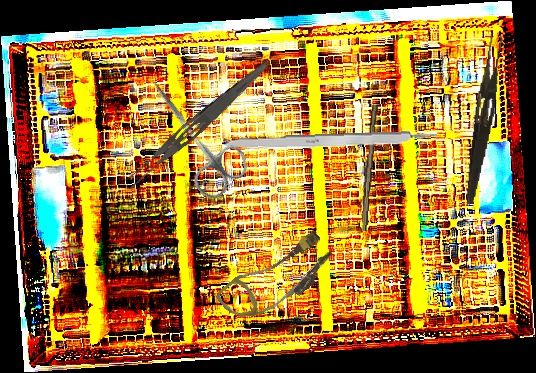Cannula: (214, 219, 340, 338)
Dressing Forceps: (120, 55, 272, 193), (463, 34, 504, 206)
Iris Scissors: (127, 63, 256, 205)
Scalpel Handle: (221, 130, 438, 153), (359, 104, 378, 232)
